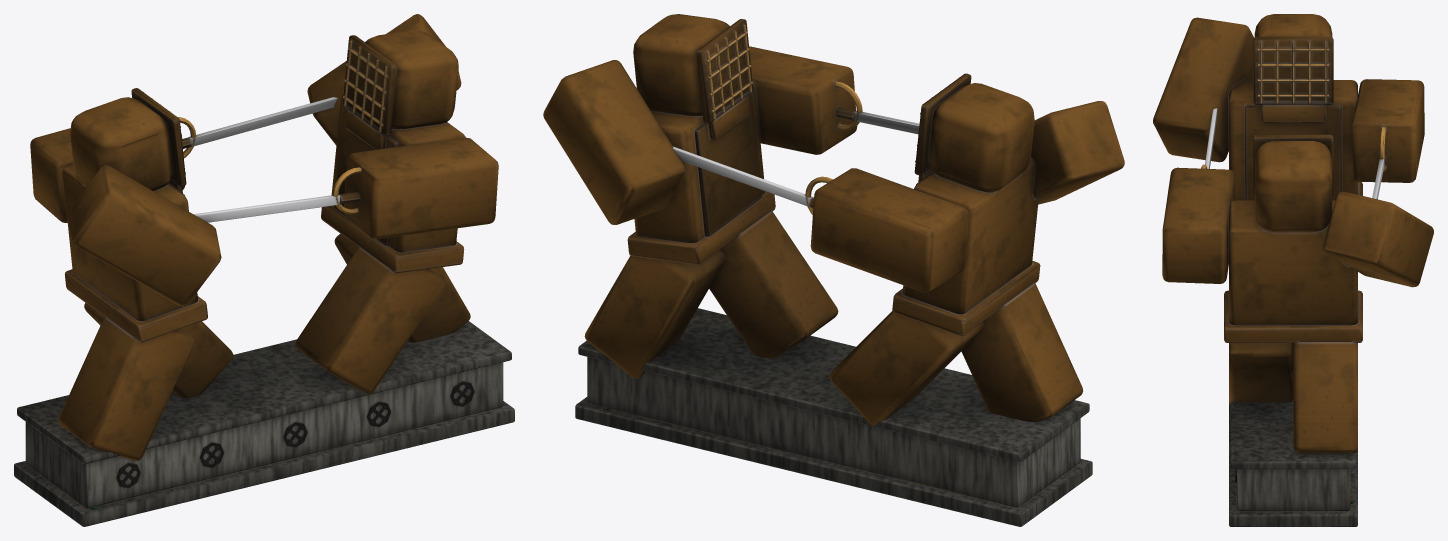
Rendered from FencingDuel.fbx.
3 views of the same model, side by side, from view 1: azimuth 30°, elevation 25°; view 2: azimuth 150°, elevation 25°; view 3: azimuth 270°, elevation 25° (orthographic). The views are drawn at different scales.
Visible parts, largest first — view 1: FencingDuel_Figure2, FencingDuel_Main, FencingDuel_Figure; view 2: FencingDuel_Figure2, FencingDuel_Figure, FencingDuel_Main; view 3: FencingDuel_Figure2, FencingDuel_Figure, FencingDuel_Main.
Part boxes in pixels (left/top/right/bottom): FencingDuel_Figure2: left=193, top=14, right=498, bottom=394; FencingDuel_Main: left=14, top=321, right=514, bottom=526; FencingDuel_Figure: left=30, top=88, right=337, bottom=460; FencingDuel_Figure2: left=543, top=14, right=919, bottom=378; FencingDuel_Figure: left=672, top=73, right=1124, bottom=426; FencingDuel_Main: left=575, top=308, right=1092, bottom=526; FencingDuel_Figure2: left=1162, top=108, right=1433, bottom=453; FencingDuel_Figure: left=1153, top=14, right=1424, bottom=200; FencingDuel_Main: left=1229, top=400, right=1357, bottom=526.
Bounding box in the file's own units: 1243 × 942 × 695.
